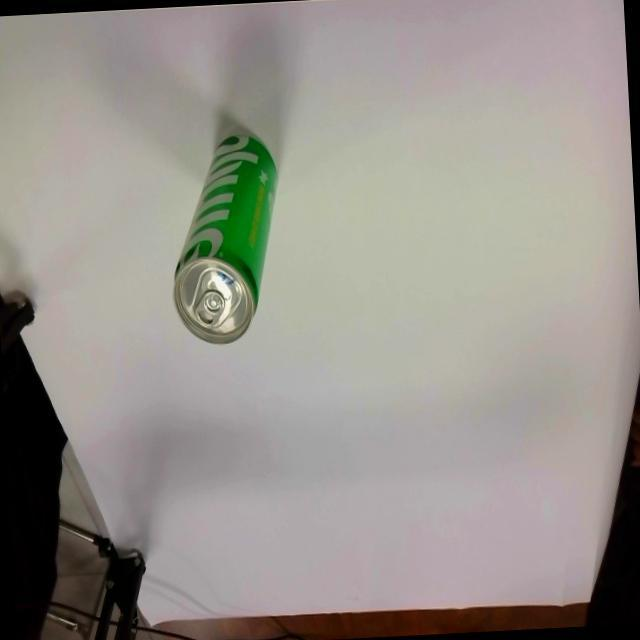debris: (164, 131, 288, 349)
